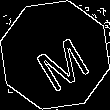M_NW: (22, 22, 88, 88)
